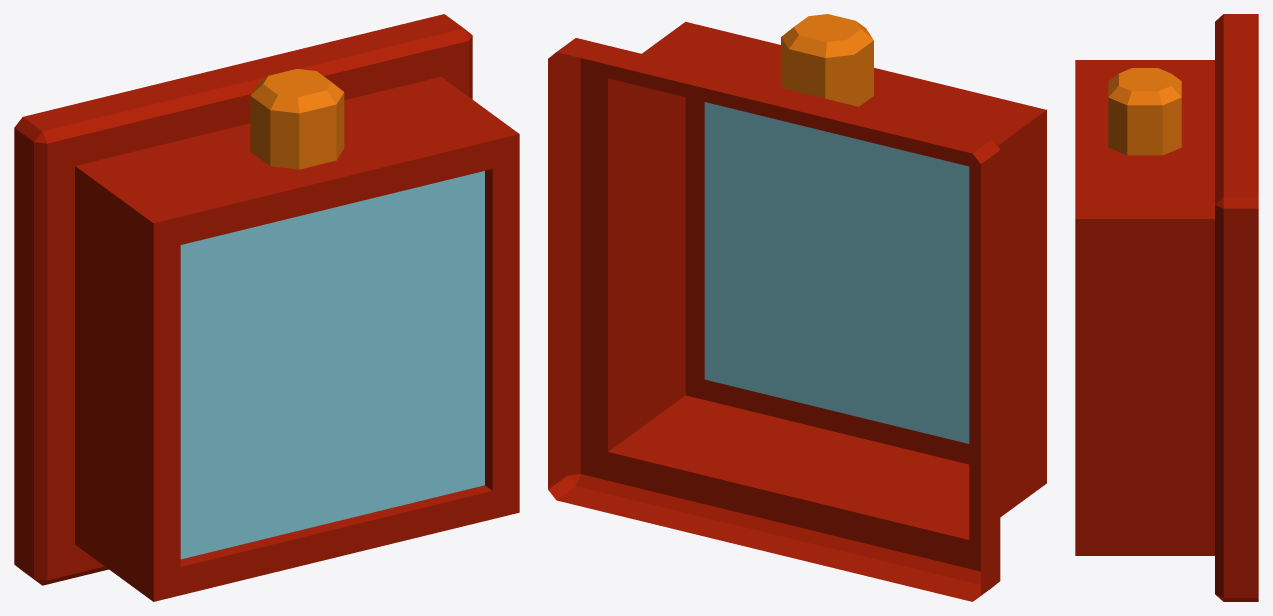
File: AlarmSwitch.fbx
3 views of the same model, side by side, from view 1: azimuth 30°, elevation 25°; view 2: azimuth 150°, elevation 25°; view 3: azimuth 270°, elevation 25° (orthographic). The views are drawn at different scales.
Parts seen in each view (by area): view 1: AlarmSwitch; view 2: AlarmSwitch; view 3: AlarmSwitch.
Boxes of the visible parts, left/top/right/bottom form: AlarmSwitch: left=14, top=14, right=519, bottom=601; AlarmSwitch: left=548, top=14, right=1046, bottom=601; AlarmSwitch: left=1075, top=14, right=1258, bottom=601.
Size of the model in its own units: 15.02 by 15.83 by 6.11.
Materials: 1 (1 with a texture image).
